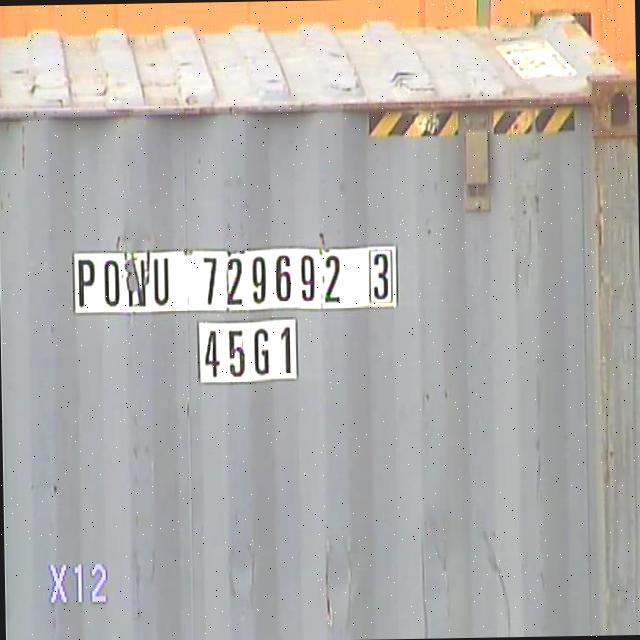le-tle-t-tletters: (70, 243, 400, 312)
